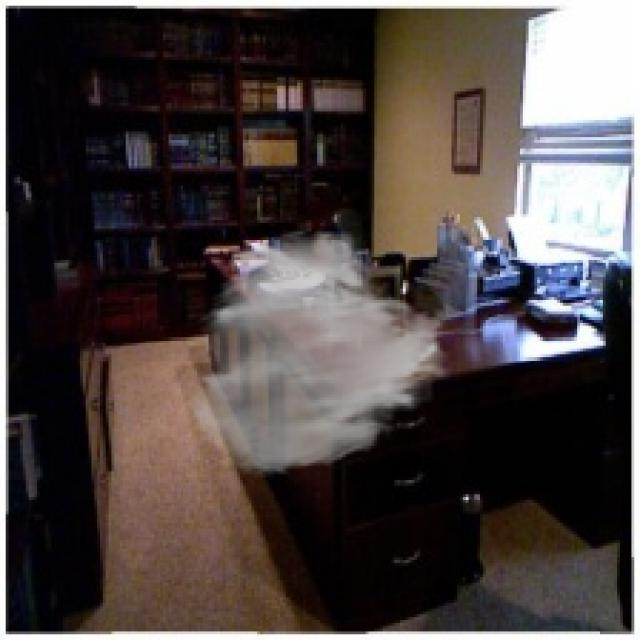Smoke: (185, 226, 460, 477)
